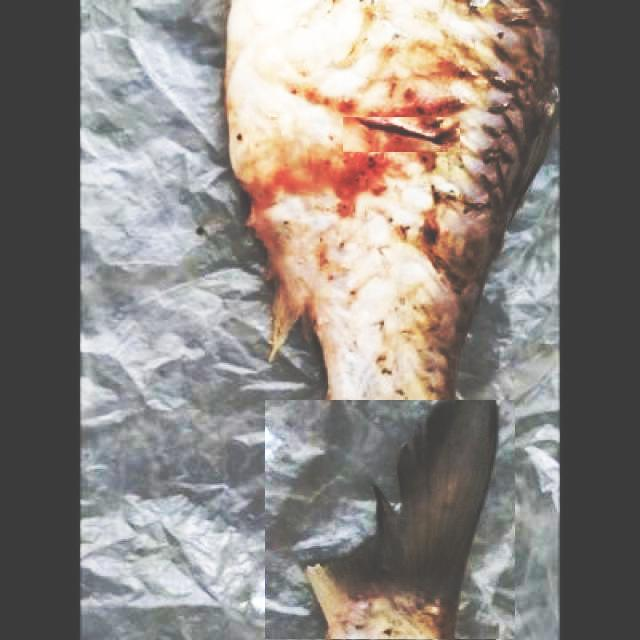Aeromonas Septicemia: (221, 0, 562, 640)
